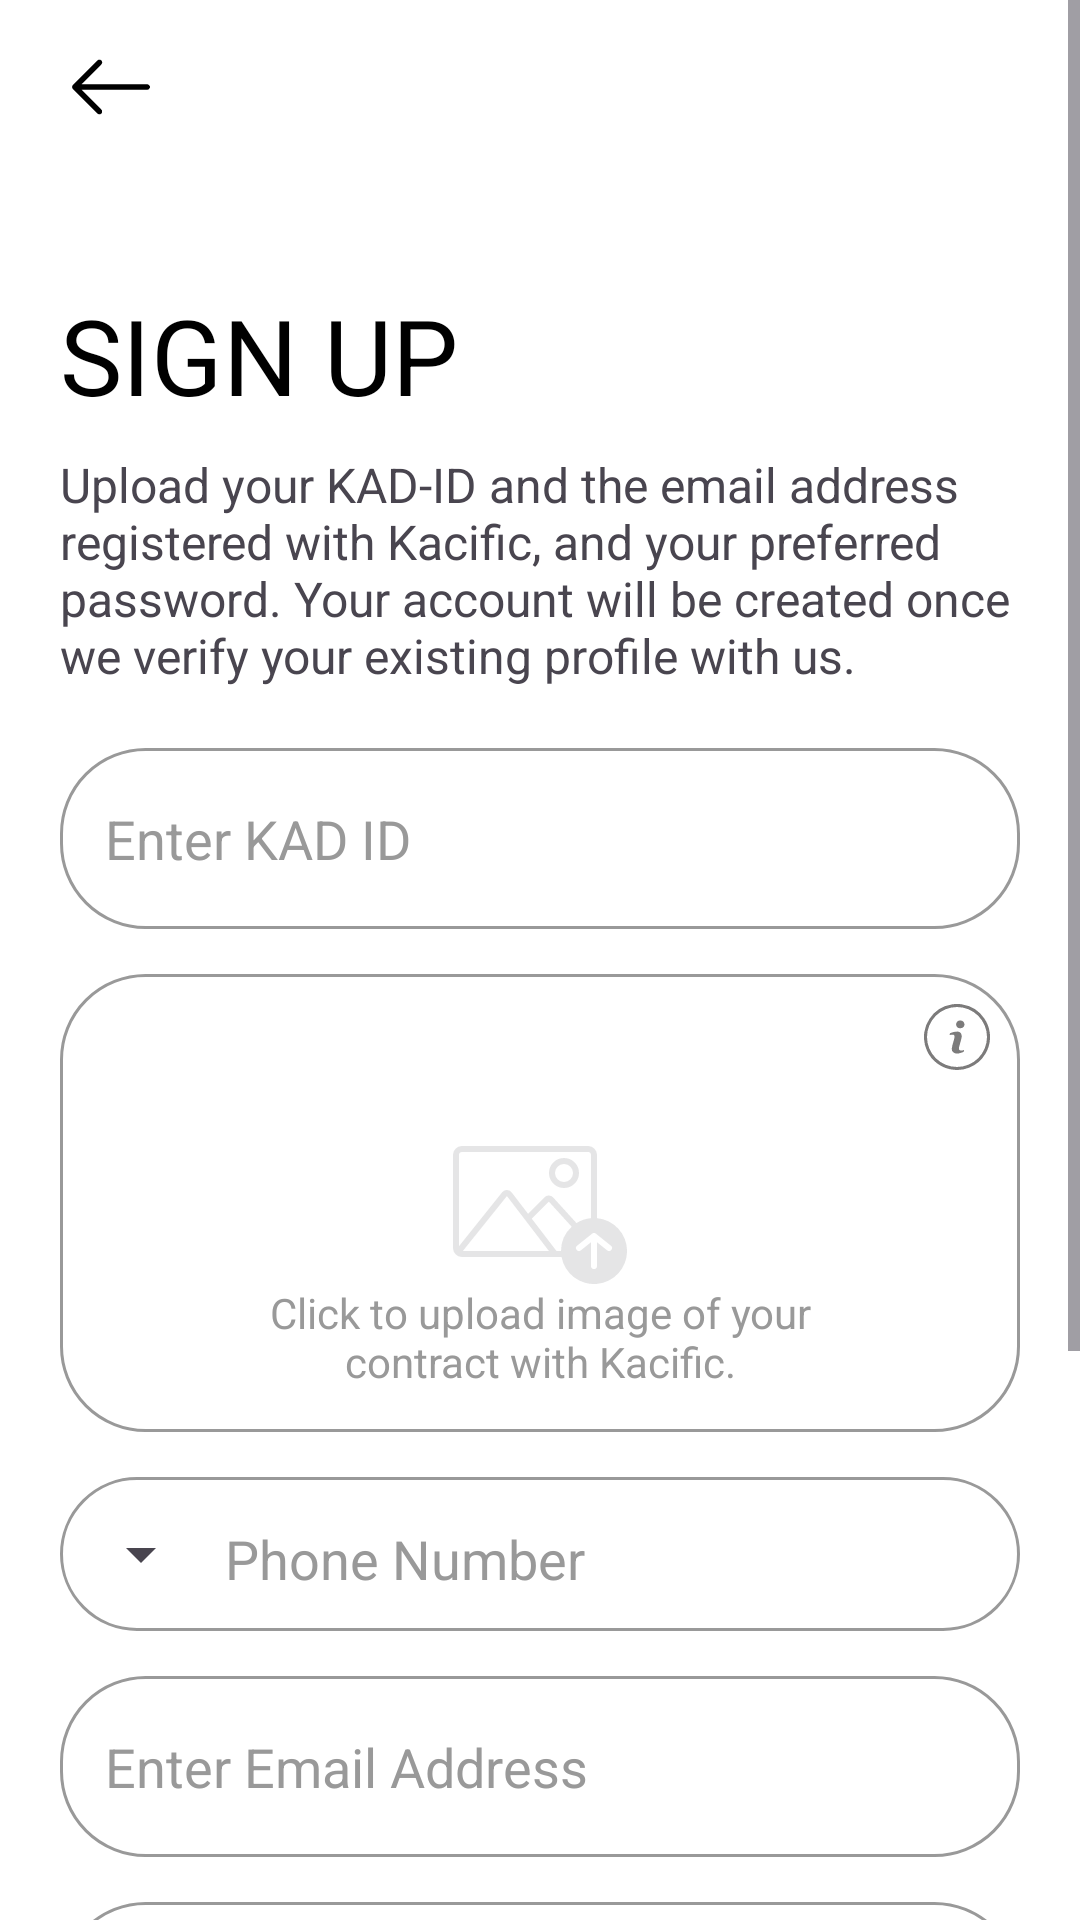

Named icons in this screenshot (1080w x 1920h) and their centers, (x,y):
backarrow: (111,87)
info: (957,1037)
